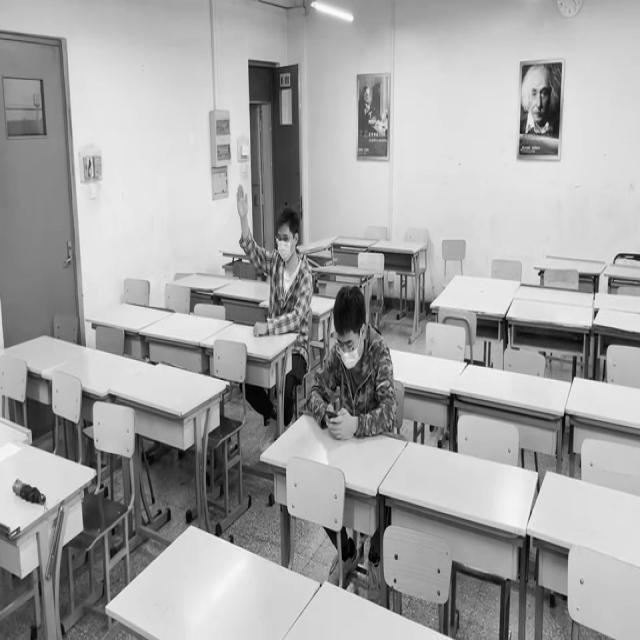phone: (314, 287, 395, 440)
study: (237, 183, 312, 337)
